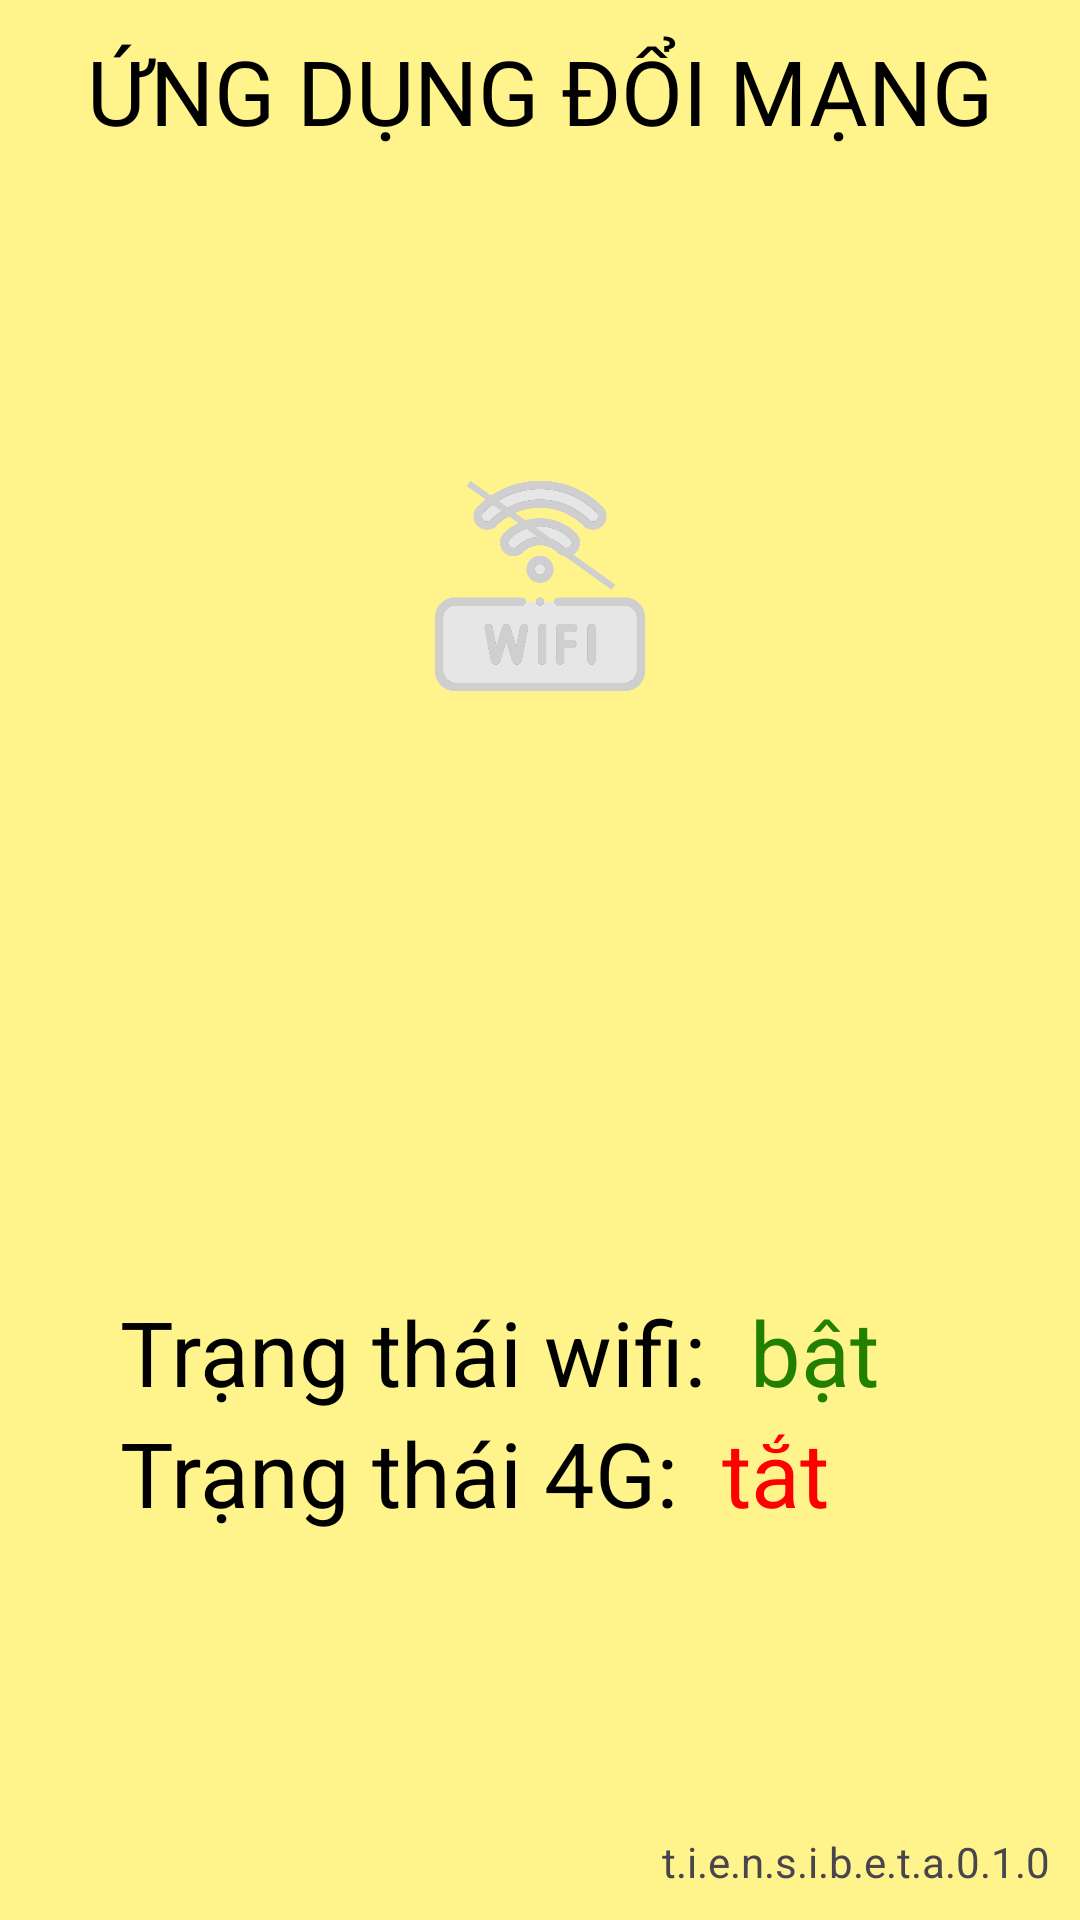

Named icons in this screenshot (1080px×1920px) and their centers, (x=x, y=y):
wifi slash: (x=540, y=586)
